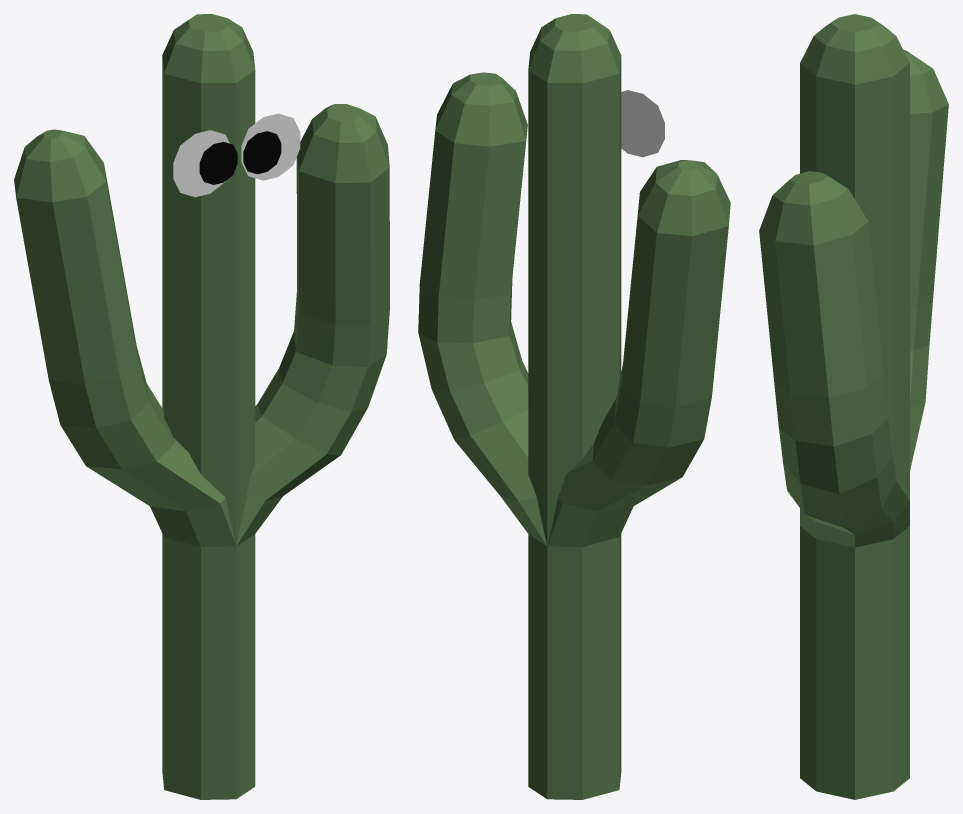
Rendered from cactus.glb.
3 views of the same model, side by side, from view 1: azimuth 30°, elevation 25°; view 2: azimuth 150°, elevation 25°; view 3: azimuth 270°, elevation 25° (orthographic).
Visible parts, largest first — view 1: Cube, Plane, Plane.001, Plane.003, Plane.002; view 2: Cube, Plane; view 3: Cube.
Boxes of the visible parts, x1,y1,x2,y2 form: Cube: [14, 14, 389, 799]; Plane: [173, 130, 229, 197]; Plane.001: [241, 113, 300, 180]; Plane.003: [243, 131, 281, 174]; Plane.002: [199, 142, 237, 184]; Cube: [418, 14, 730, 799]; Plane: [621, 90, 664, 157]; Cube: [759, 14, 948, 799].
Bounding box in the file's own units: 4.45 × 9.47 × 2.16.
